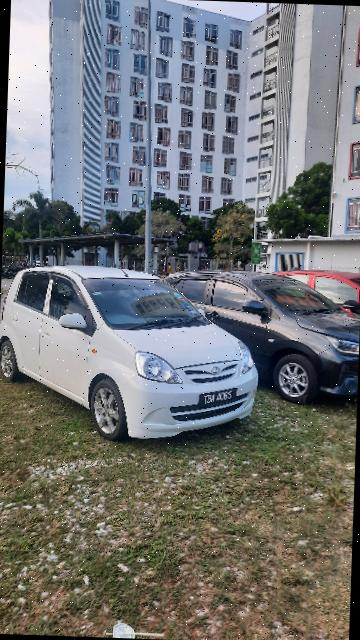License_Plate: (196, 387, 245, 409)
car: (1, 261, 267, 450)
